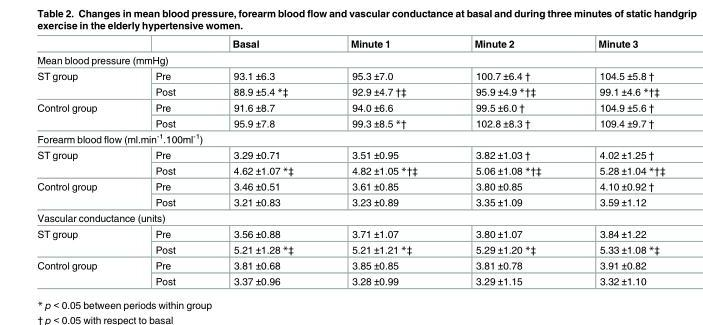table: (36, 37, 664, 286)
table column: (321, 37, 445, 286), (445, 37, 569, 286), (203, 37, 321, 286), (569, 37, 664, 286), (36, 37, 125, 286), (125, 37, 203, 286)
table column header: (36, 37, 664, 51)
table projected row header: (36, 51, 664, 67), (36, 130, 664, 146), (36, 209, 664, 225)
table row: (36, 51, 664, 67), (36, 67, 664, 83), (36, 83, 664, 99), (36, 114, 664, 130), (36, 130, 664, 146), (36, 146, 664, 162), (36, 162, 664, 178), (36, 193, 664, 209), (36, 209, 664, 225), (36, 225, 664, 241), (36, 241, 664, 257), (36, 99, 664, 114), (36, 178, 664, 193), (36, 257, 664, 272), (36, 37, 664, 51), (36, 272, 664, 286)
table spanning cell: (36, 67, 125, 99), (36, 146, 125, 178), (36, 225, 125, 257), (36, 99, 125, 130), (36, 178, 125, 209), (36, 257, 125, 286)
